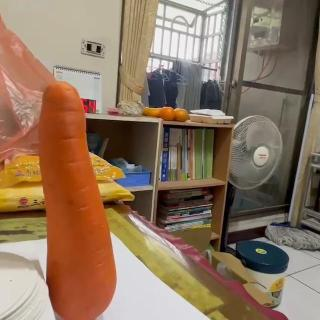carrot: (38, 79, 117, 320)
